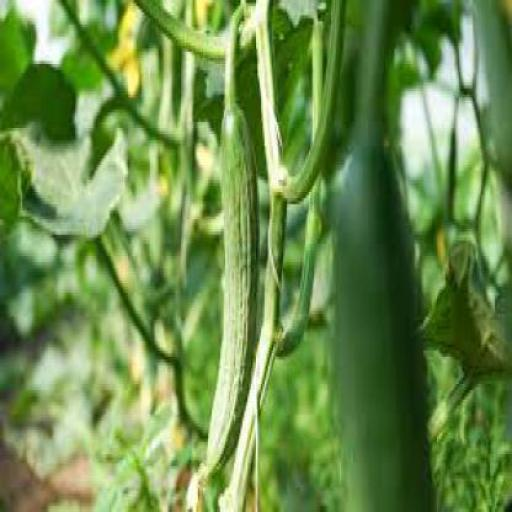biodegradable: (329, 122, 434, 509), (204, 89, 256, 485), (278, 18, 323, 341), (472, 0, 510, 192)
